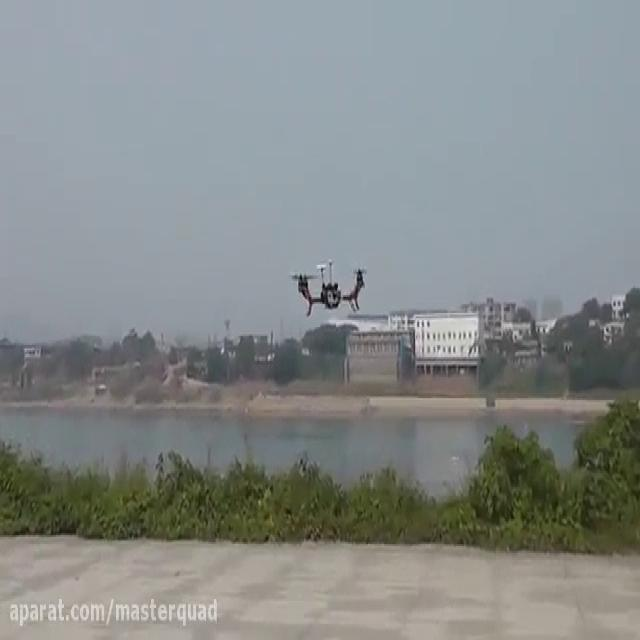drone: (286, 254, 374, 318)
